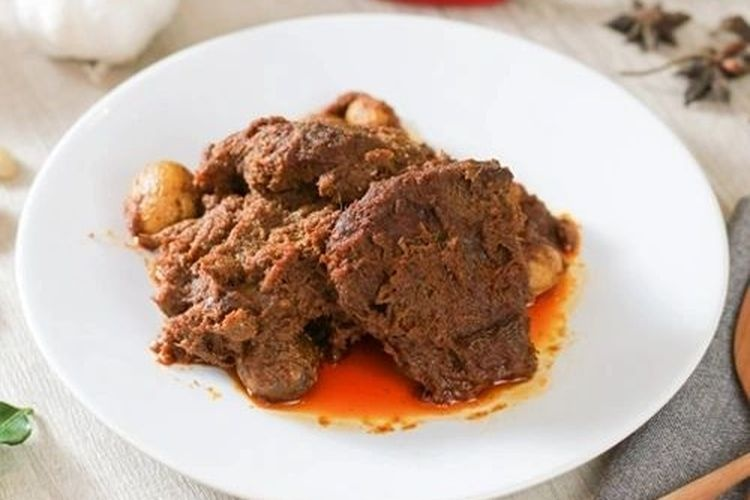rendang: (116, 120, 582, 421)
